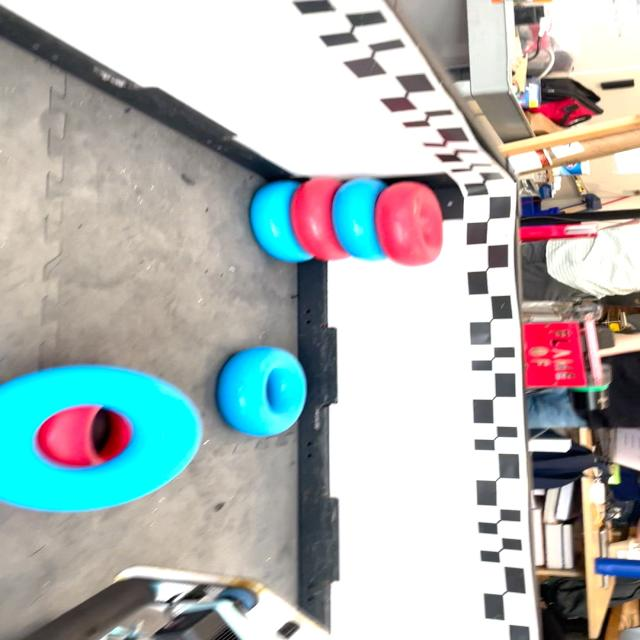Blue-Ring: (2, 365, 204, 512), (218, 346, 307, 436), (251, 180, 313, 262), (333, 178, 387, 261)
Red-Ring: (376, 181, 442, 266), (291, 178, 349, 261)
